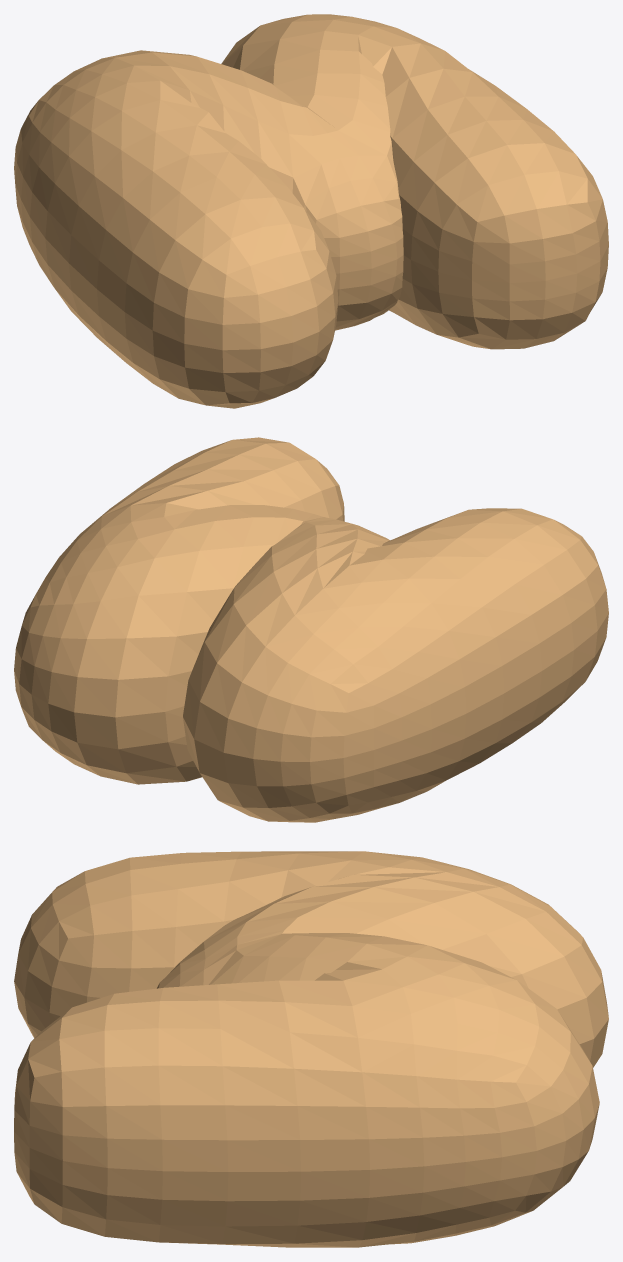
3 views of the same model, one above another, from view 1: azimuth 30°, elevation 25°; view 2: azimuth 150°, elevation 25°; view 3: azimuth 270°, elevation 25° (orthographic). The views are drawn at different scales.
Size of the model in its own units: 0.9349 by 0.4881 by 0.9846.
